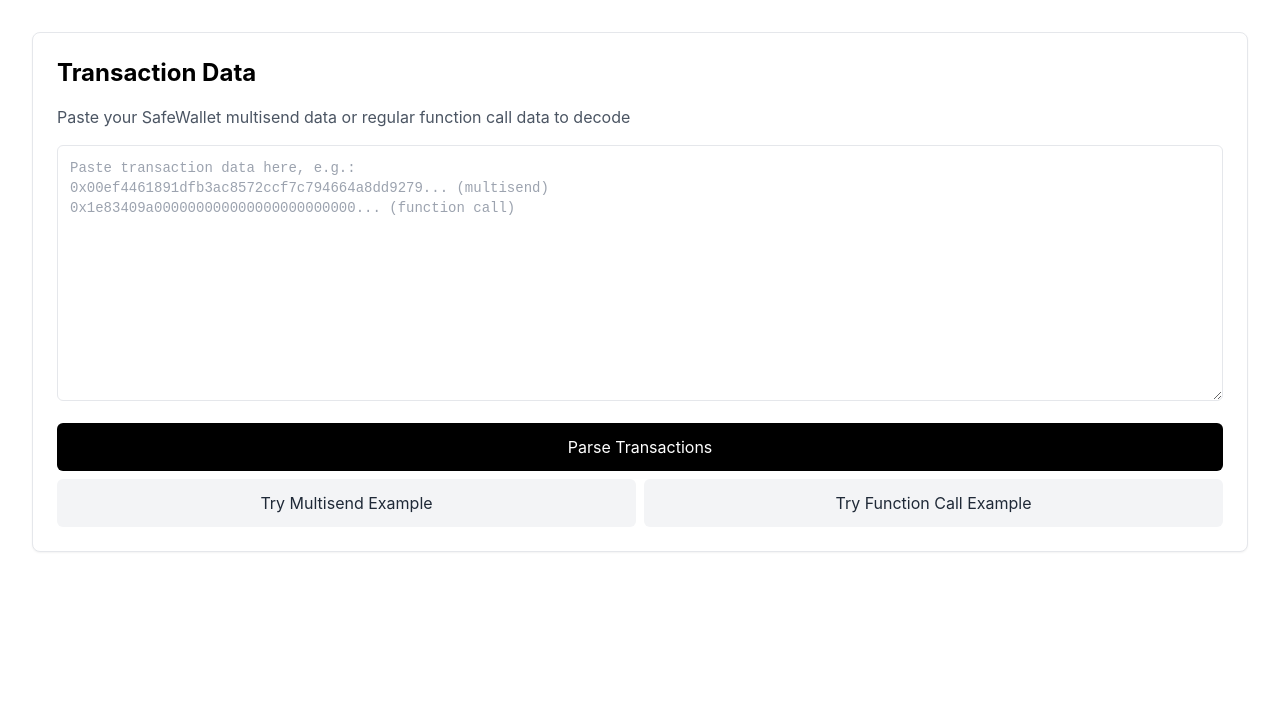
Test: MultisendForm › clears error message when "Try Multisend Example" is clicked
# First, trigger an error
Step 1. Replace the text in the text box with placeholder "Paste transaction data here" with "not a hex string" → [640, 273], box x1=57 y1=145 x2=1223 y2=401
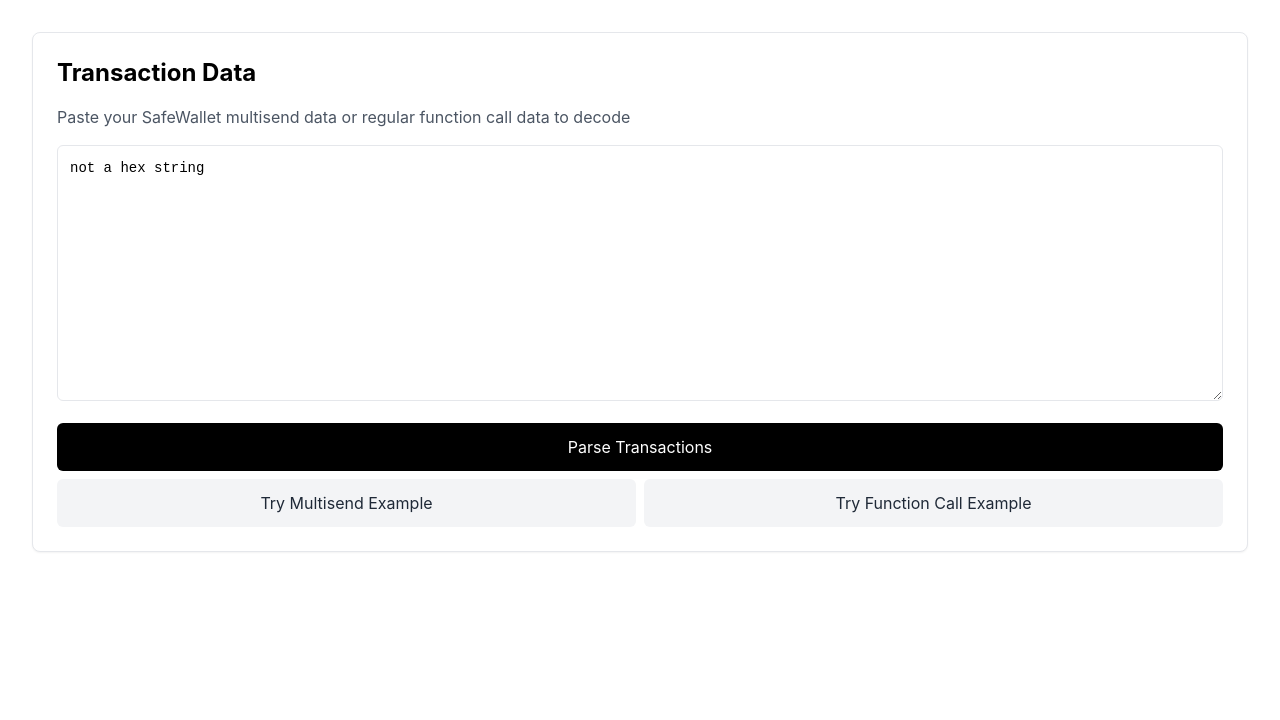
Step 2. Click the button "Parse Transactions" → [640, 447], box x1=57 y1=423 x2=1223 y2=471
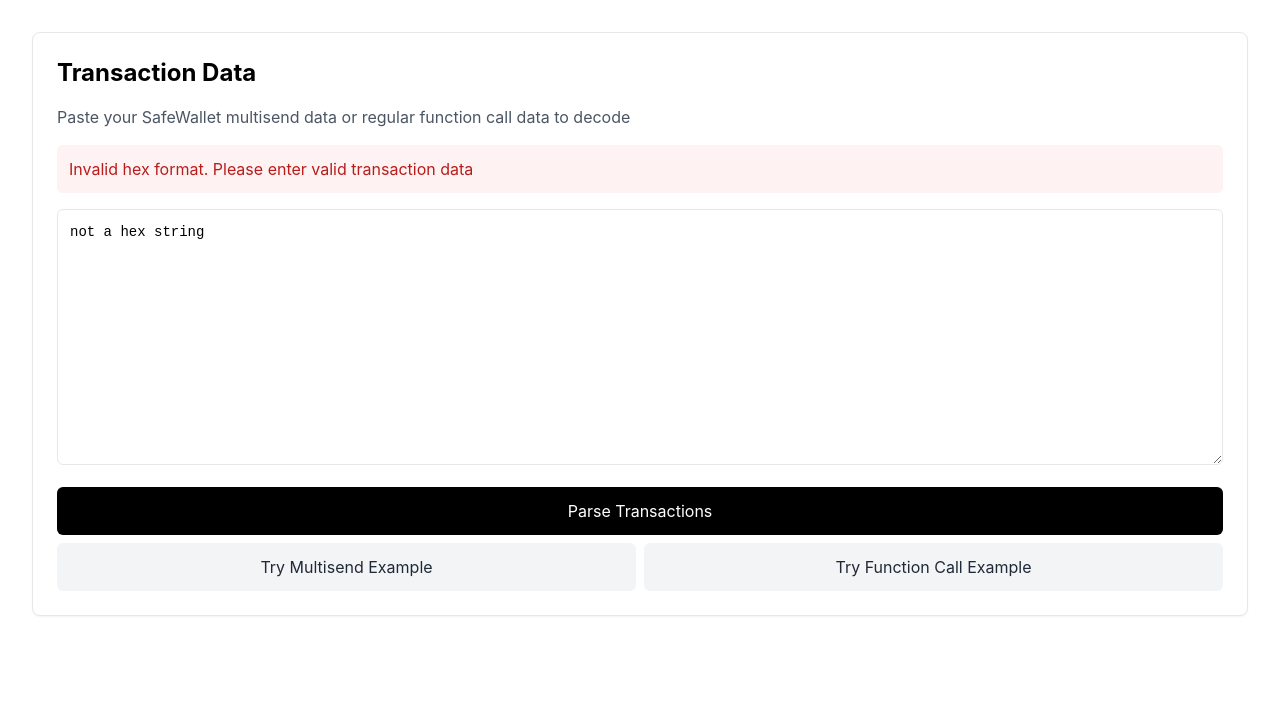
Result: the text "Invalid hex format. Please enter valid transaction data" is shown at x1=57 y1=145 x2=1223 y2=193
# Click "Try Multisend Example"
Step 3. Click the button "Try Multisend Example" → [346, 567], box x1=57 y1=543 x2=636 y2=591
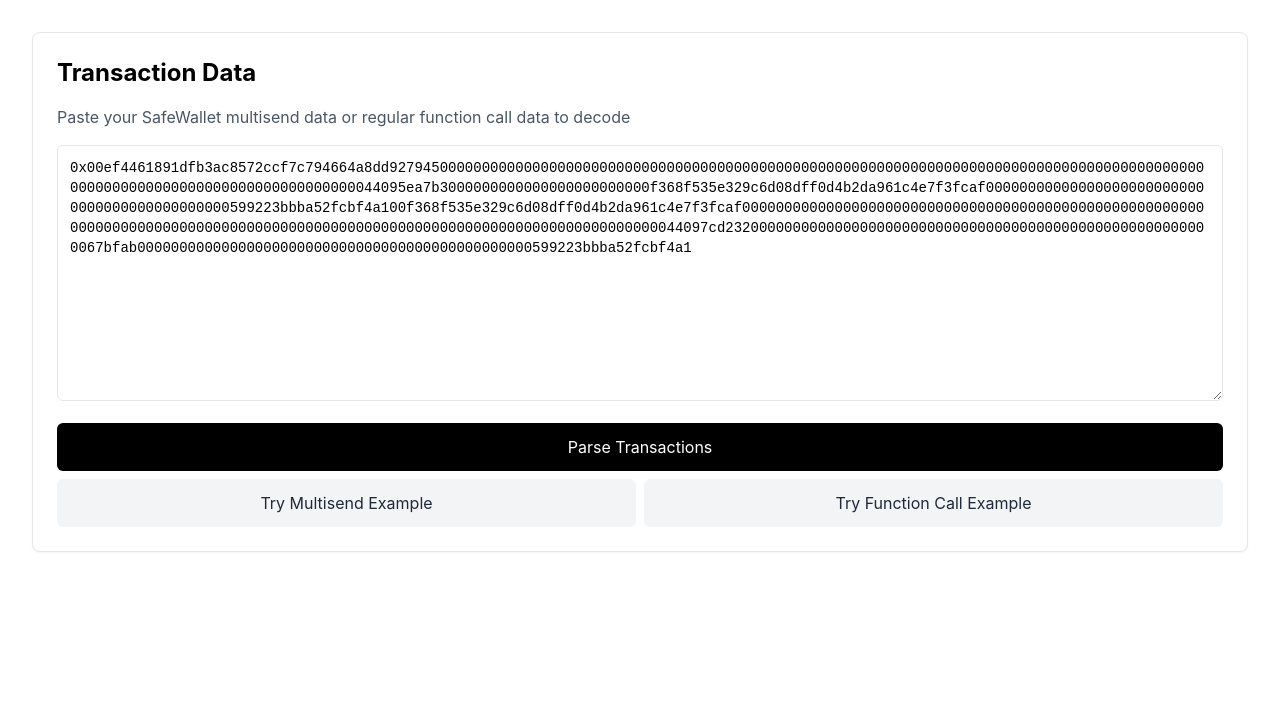
Result: the text "Invalid hex format. Please enter valid transaction data" is gone
